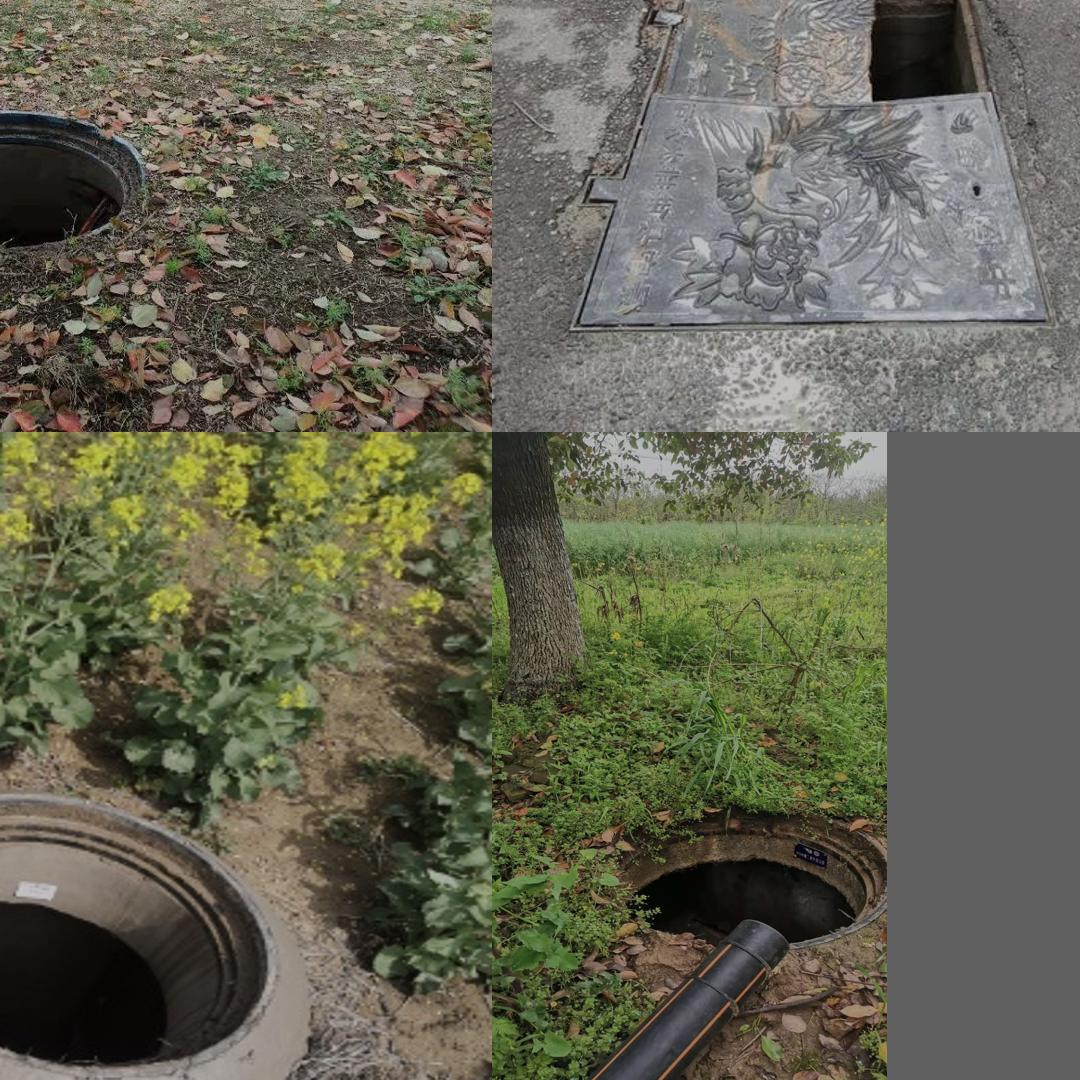lose: (544, 0, 1065, 353), (0, 798, 308, 1080), (596, 808, 885, 951), (0, 112, 144, 253)
